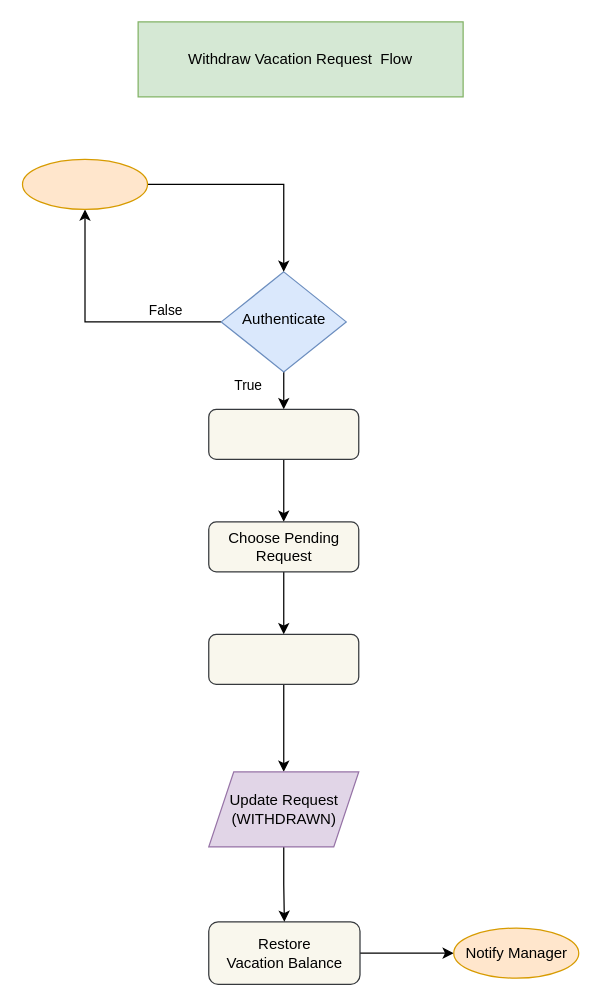
Image size: 600x1006. Some labels were removed from this diagram. The centre of each missing label's shape, as x and y in pixels:
"Employee Login" belongs at (84,183).
"ViewVacation Requests" belongs at (283,433).
"Withdraw Request" belongs at (283,658).
